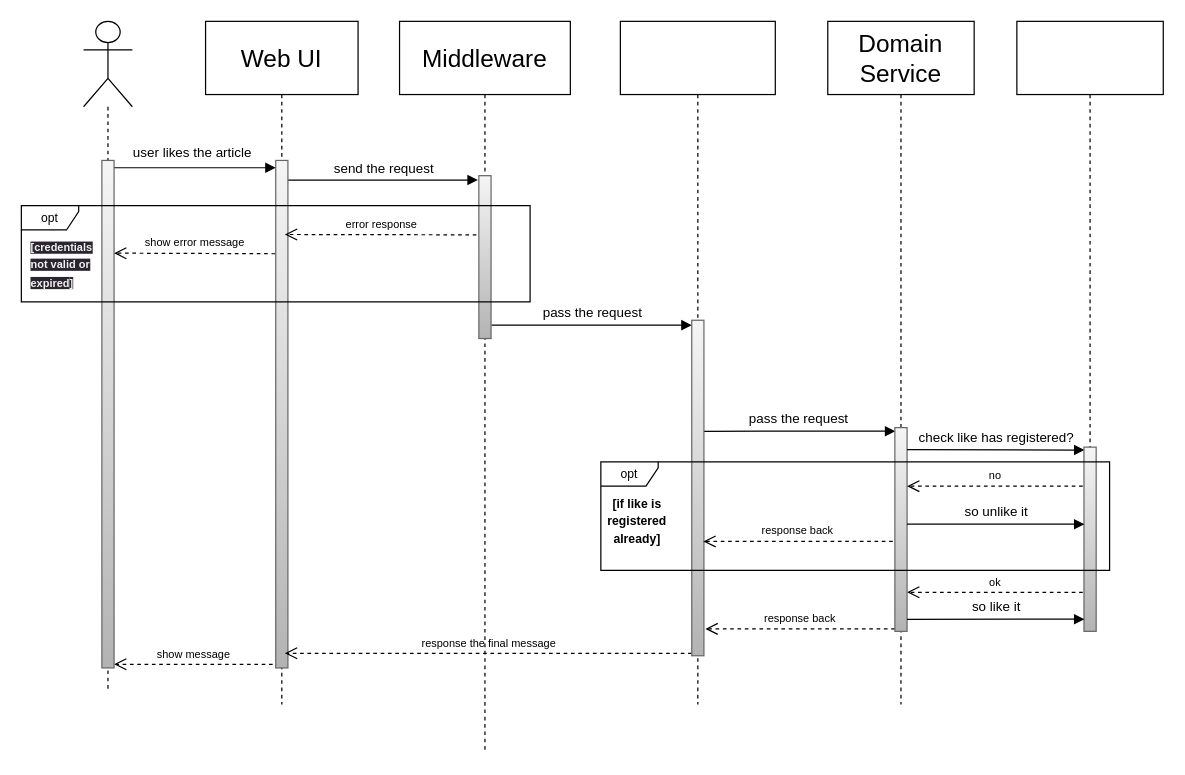
This 1185x775 diagram has some shape labels left out. Each missing label, with the box of its shape:
Application Service: (619, 20, 775, 705)
Database: (1016, 20, 1163, 631)
